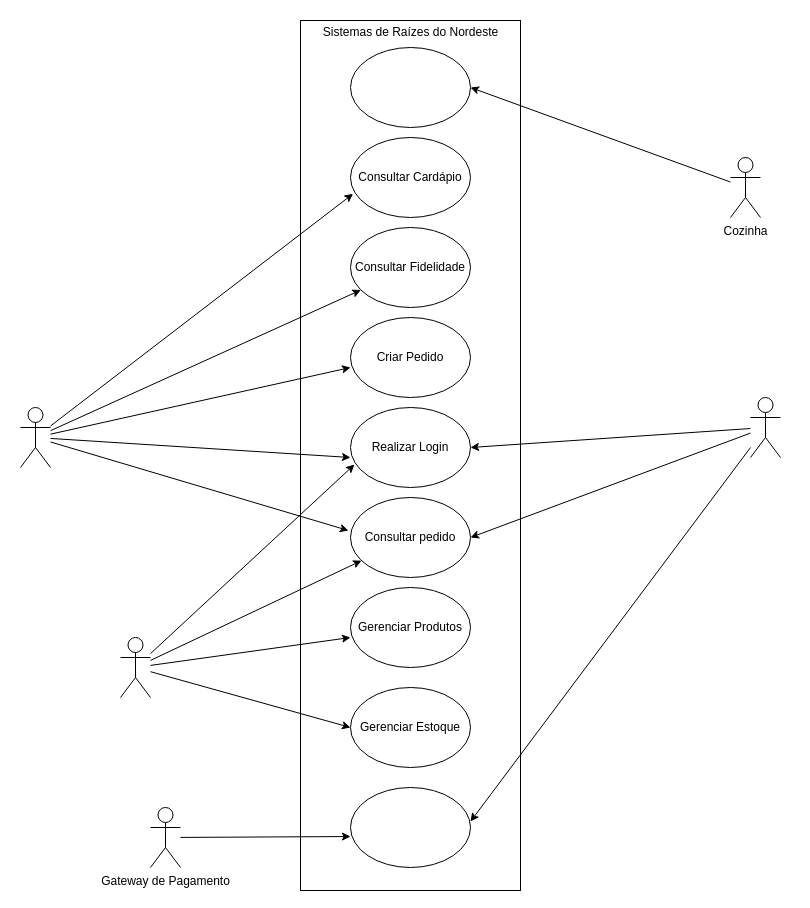
This 810x908 diagram has some shape labels left out. Each missing label, with the box of its shape:
Atendente: (750, 396, 780, 458)
Atualizar Status do Pedido: (350, 46, 470, 128)
Cliente: (20, 406, 50, 468)
Gerente: (120, 636, 150, 698)
Realizar Pagamento: (350, 786, 470, 868)
